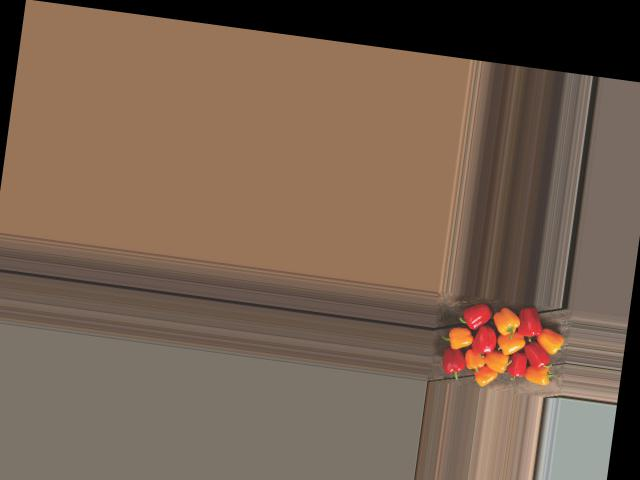bell_pepper: (527, 321, 566, 356)
